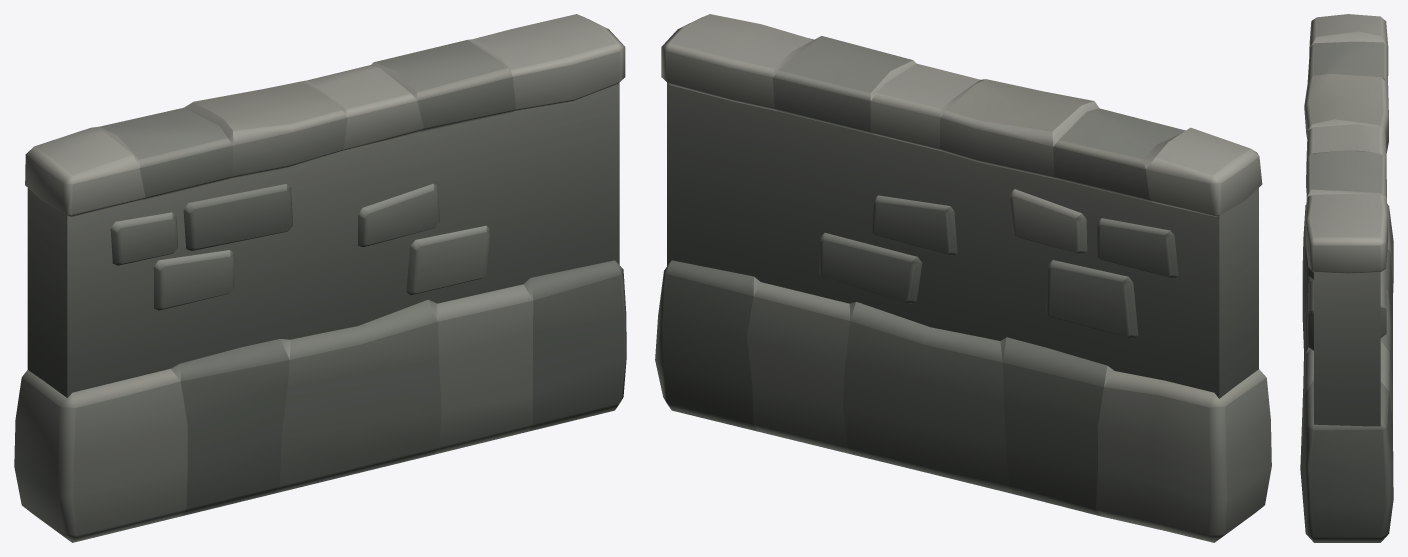
Rendered from human_wall_foundation_1.fbx.
The picture shows the model from 3 angles, left to right: view 1: azimuth 30°, elevation 25°; view 2: azimuth 150°, elevation 25°; view 3: azimuth 270°, elevation 25°; orthographic projection. The views are drawn at different scales.
Parts seen in each view (by area): view 1: human_wall_foundation_1; view 2: human_wall_foundation_1; view 3: human_wall_foundation_1.
Boxes of the visible parts, x1,y1,x2,y2 form: human_wall_foundation_1: (14, 14, 626, 542); human_wall_foundation_1: (655, 14, 1271, 542); human_wall_foundation_1: (1300, 14, 1393, 542).
Bounding box in the file's own units: 415 × 262 × 70.13.
